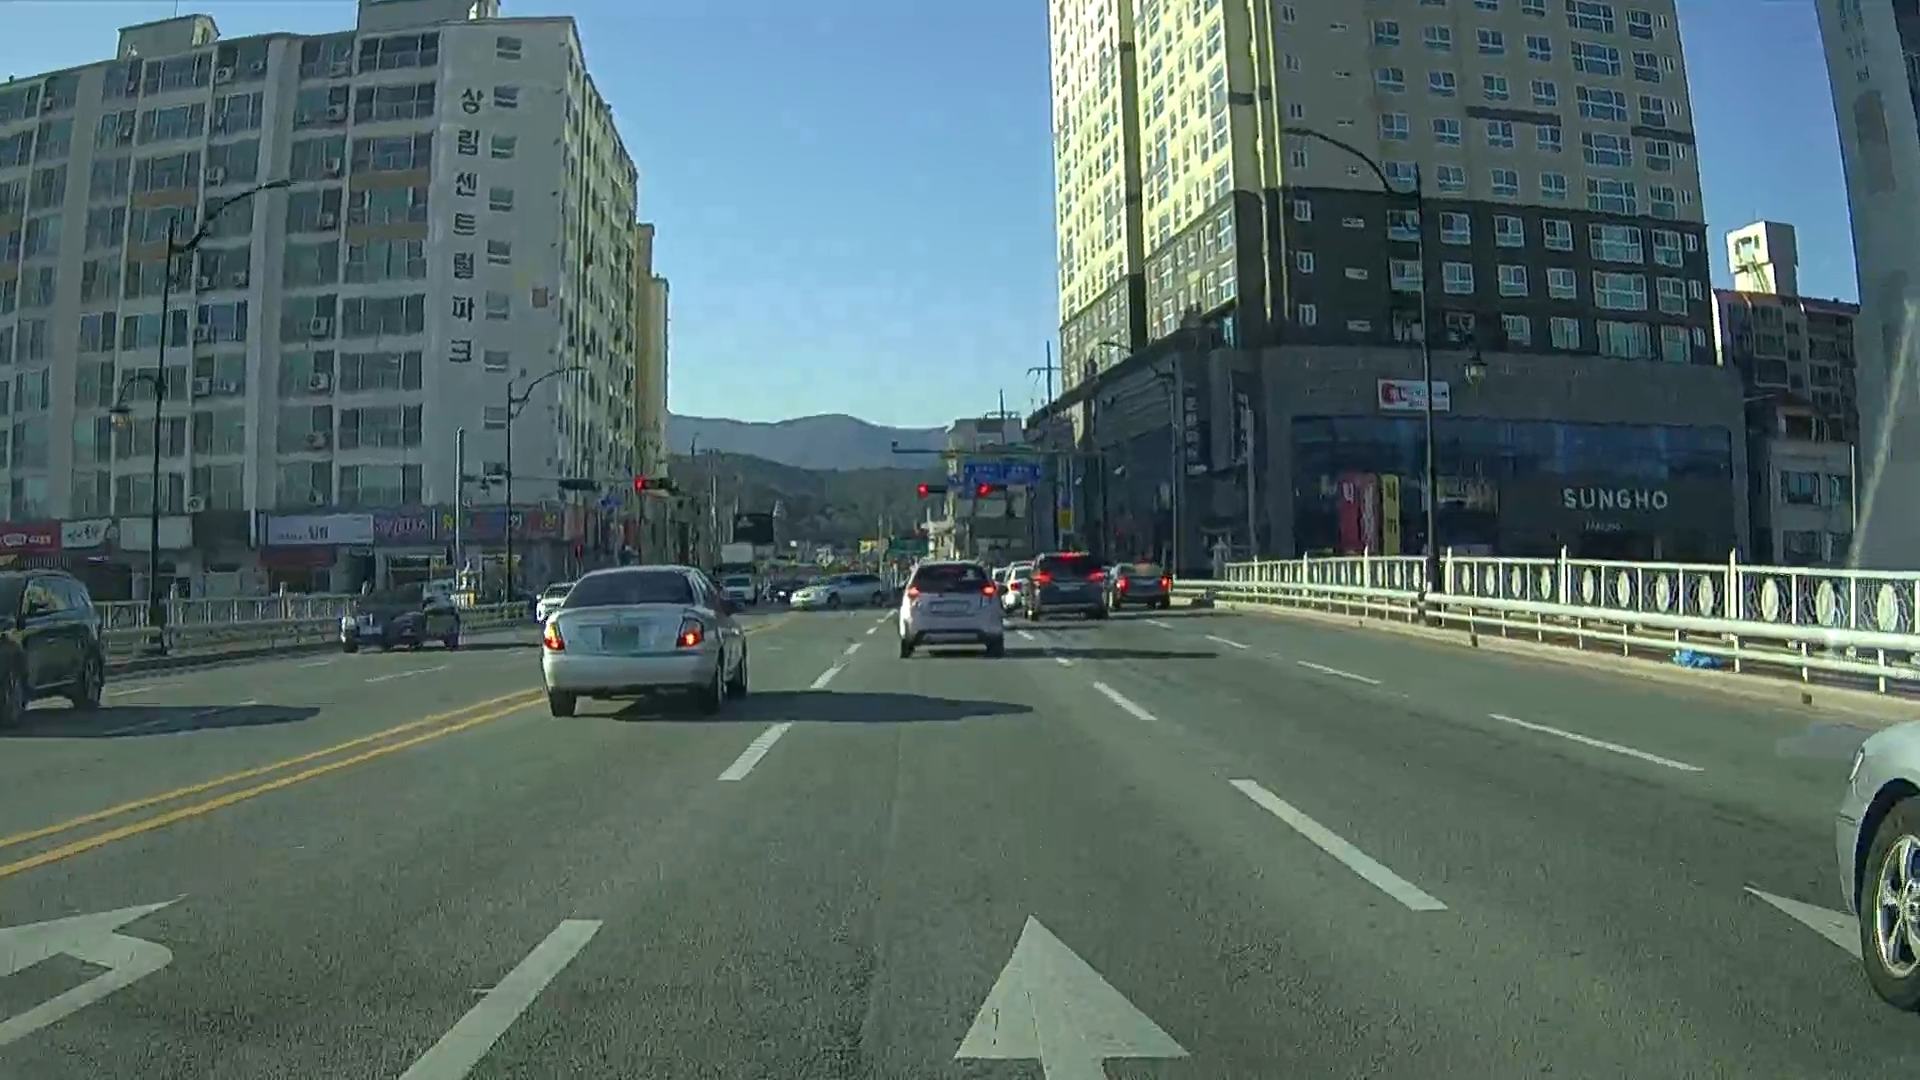trafficLight: (632, 477, 669, 493), (975, 481, 1009, 497), (916, 484, 945, 498)
